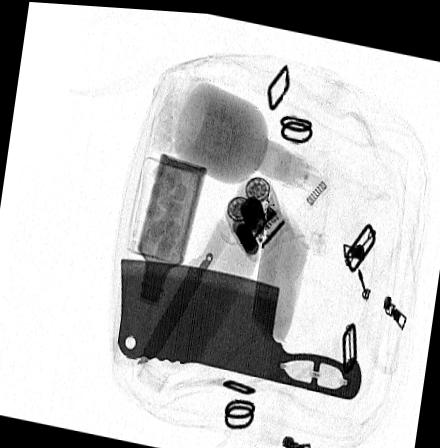Knife: (115, 258, 361, 395)
